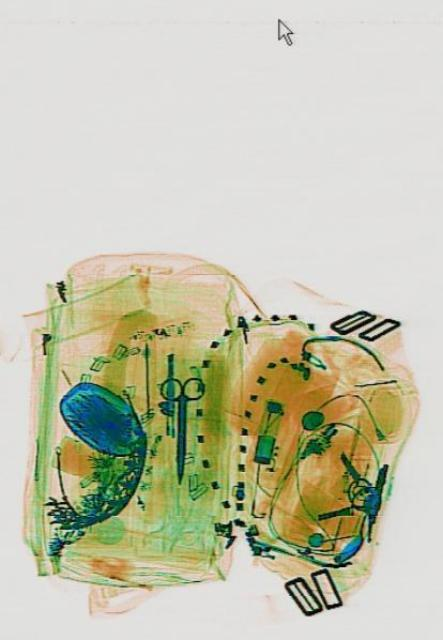Scissors: (158, 376, 202, 486)
